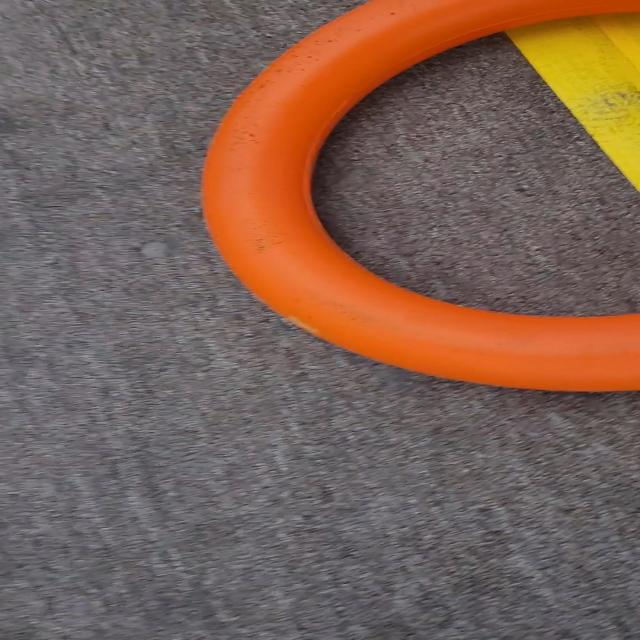note: (182, 0, 640, 412)
